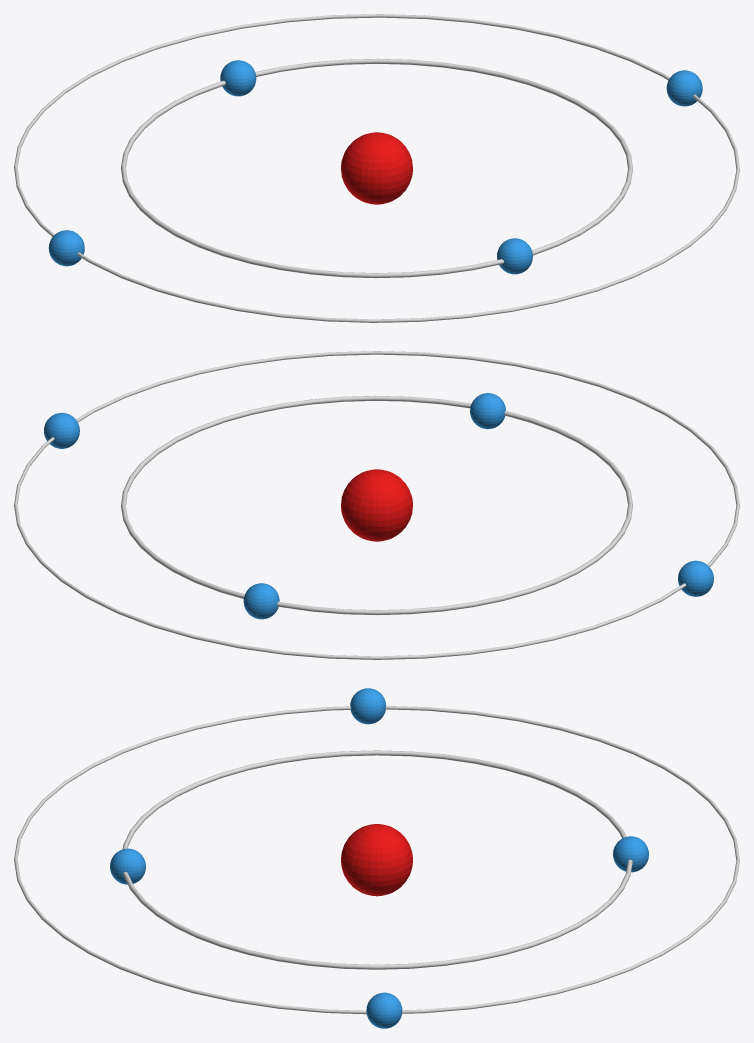
Rendered from berylliumreal.glb.
3 renders of one model, top to bottom at view 1: azimuth 30°, elevation 25°; view 2: azimuth 150°, elevation 25°; view 3: azimuth 270°, elevation 25°, orthographic.
Parts seen in each view (by area): view 1: BézierCircle.001, BézierCircle, Sphere, Sphere.003, Sphere.002, Sphere.004, Sphere.001; view 2: BézierCircle.001, BézierCircle, Sphere, Sphere.003, Sphere.001, Sphere.002, Sphere.004; view 3: BézierCircle.001, BézierCircle, Sphere, Sphere.004, Sphere.002, Sphere.003, Sphere.001.
Boxes of the visible parts, <box> form: BézierCircle.001: <box>14,14,739,322</box>; BézierCircle: <box>121,58,632,278</box>; Sphere: <box>341,132,412,204</box>; Sphere.003: <box>220,60,256,96</box>; Sphere.002: <box>48,230,84,266</box>; Sphere.004: <box>666,70,702,106</box>; Sphere.001: <box>497,238,532,274</box>; BézierCircle.001: <box>14,351,739,659</box>; BézierCircle: <box>121,395,632,615</box>; Sphere: <box>341,469,412,541</box>; Sphere.003: <box>243,583,279,619</box>; Sphere.001: <box>470,393,505,429</box>; Sphere.002: <box>678,560,713,596</box>; Sphere.004: <box>44,412,79,448</box>; BézierCircle.001: <box>14,706,739,1014</box>; BézierCircle: <box>122,750,632,969</box>; Sphere: <box>341,824,412,896</box>; Sphere.004: <box>366,992,402,1028</box>; Sphere.002: <box>350,688,386,724</box>; Sphere.003: <box>613,836,648,872</box>; Sphere.001: <box>110,848,145,884</box>.
Bounding box in the file's own units: 20.99 × 2 × 20.07.
